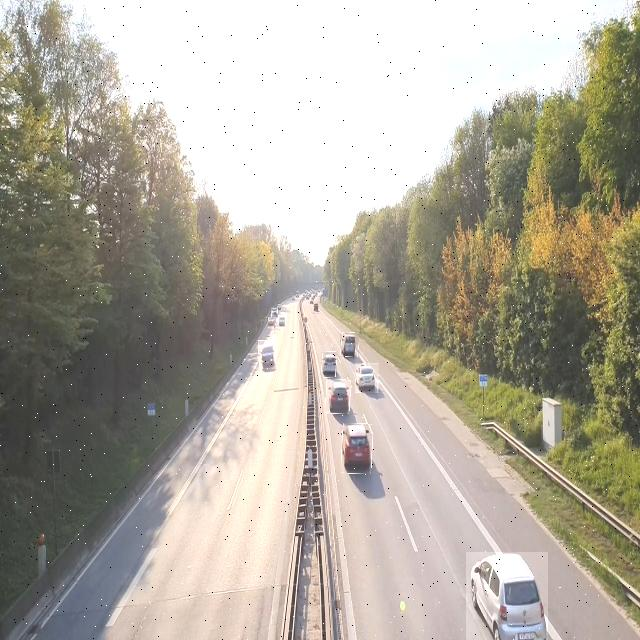Car: (466, 552, 548, 640), (342, 424, 372, 474), (326, 380, 350, 414), (356, 363, 380, 393), (259, 340, 276, 369), (340, 333, 359, 357), (321, 352, 337, 378), (278, 315, 286, 326), (268, 318, 274, 330), (313, 302, 319, 314), (272, 308, 278, 318)
